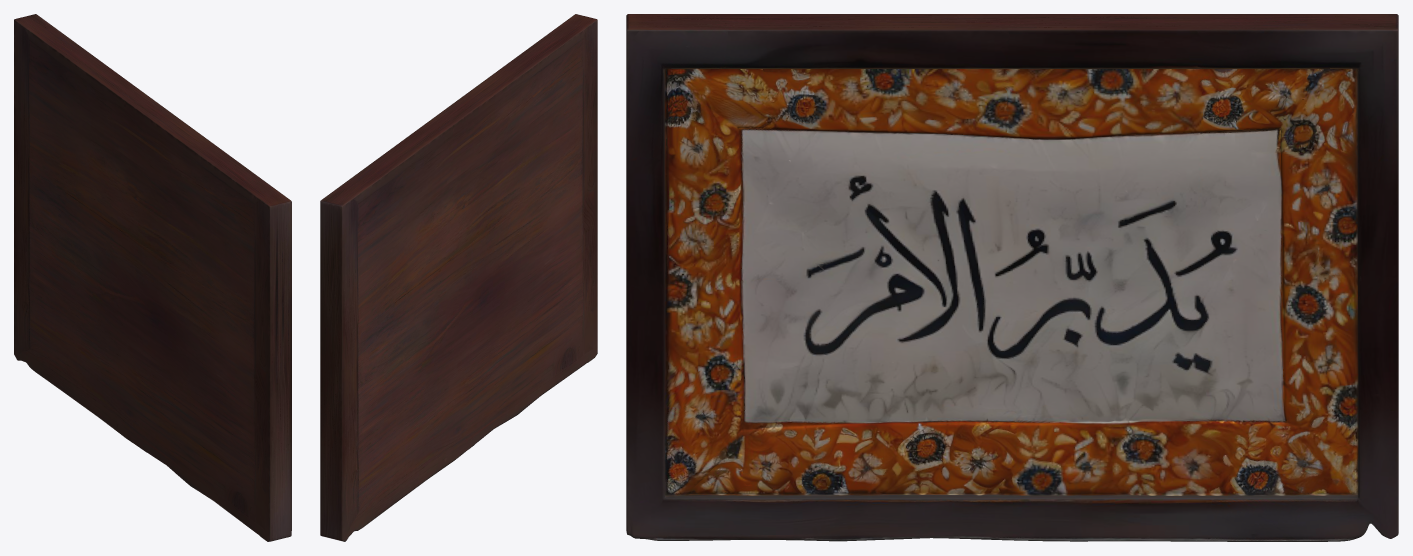
File: wall_panel.glb
3 views of the same model, side by side, from view 1: azimuth 30°, elevation 25°; view 2: azimuth 150°, elevation 25°; view 3: azimuth 270°, elevation 25° (orthographic). The views are drawn at different scales.
Parts seen in each view (by area): view 1: tripo_node_69c34ab5-5a5a-4e1a-b5aa-0734b97dc543.002; view 2: tripo_node_69c34ab5-5a5a-4e1a-b5aa-0734b97dc543.002; view 3: tripo_node_69c34ab5-5a5a-4e1a-b5aa-0734b97dc543.002.
Part boxes in pixels (x1,y1,x2,y2): tripo_node_69c34ab5-5a5a-4e1a-b5aa-0734b97dc543.002: (14,14,291,541); tripo_node_69c34ab5-5a5a-4e1a-b5aa-0734b97dc543.002: (320,14,597,541); tripo_node_69c34ab5-5a5a-4e1a-b5aa-0734b97dc543.002: (626,14,1398,541).
Bounding box in the file's own units: 0.0507 × 0.7322 × 1.
1 material, 1 textured.
